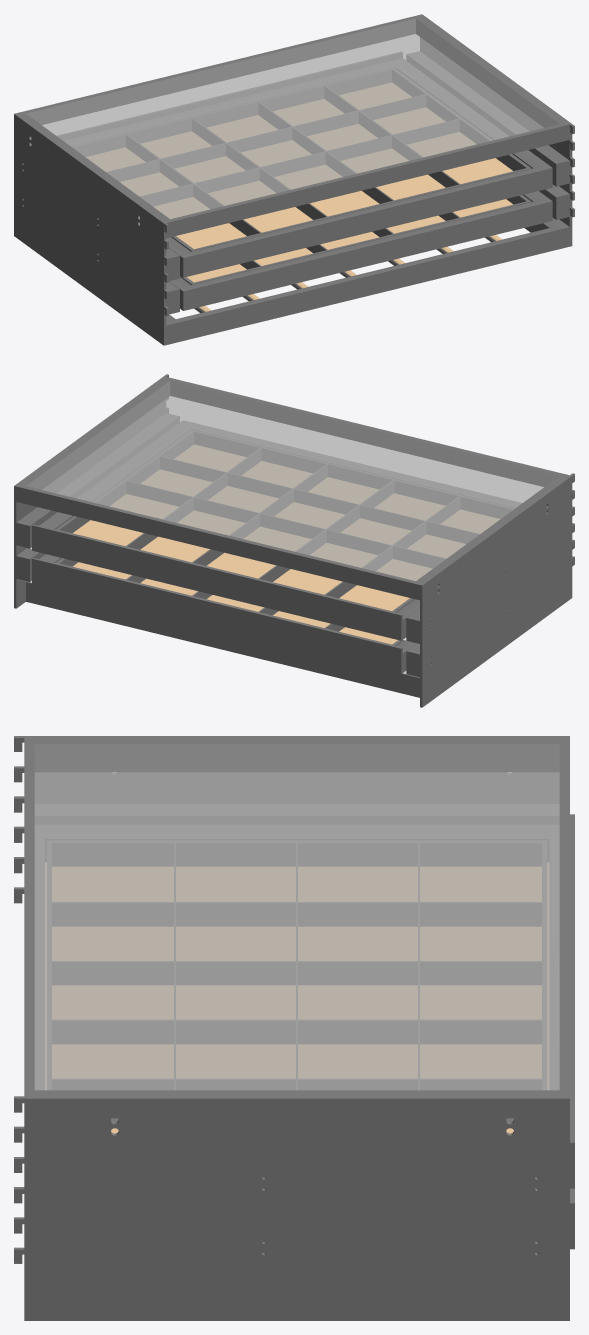
3 views of the same model, one above another, from view 1: azimuth 30°, elevation 25°; view 2: azimuth 150°, elevation 25°; view 3: azimuth 270°, elevation 25° (orthographic). The views are drawn at different scales.
Parts seen in each view (by area): view 1: Geom3D (×4); view 2: Geom3D (×4); view 3: Geom3D (×3).
Part boxes in pixels (bbox=[...]): Geom3D (×4): bbox=[14, 14, 574, 345]; Geom3D (×4): bbox=[14, 374, 574, 707]; Geom3D (×3): bbox=[14, 736, 574, 1320].
Size of the model in its own units: 0.8333 by 0.2384 by 0.545.
